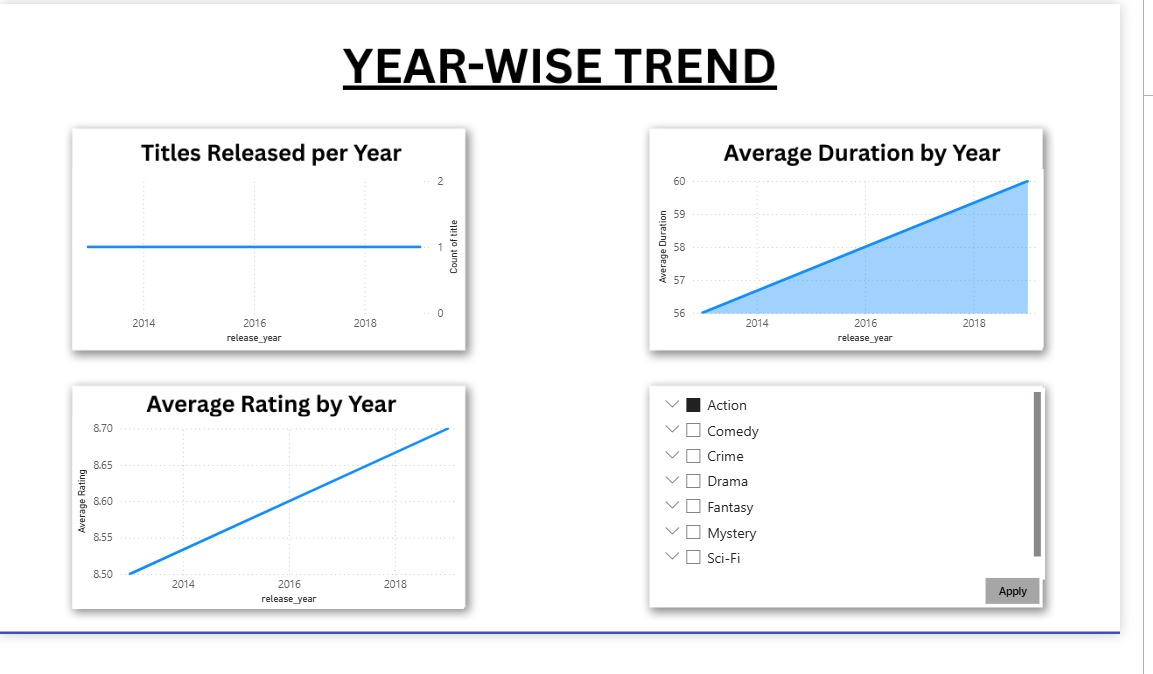

This screenshot's page, from the dashboard's own definition file:
{"tool":"powerbi","page":{"name":"Page 4","canvas":[1280,720],"ordinal":3},"visuals":[{"type":"lineChart","fields":{"Category":["ott_content_dataset.release_year"],"Y2":["CountNonNull(ott_content_dataset.title)"]},"box":[82.9,188.6,447.1,204.3],"z":0},{"type":"areaChart","fields":{"Y":["ott_content_dataset.Average Duration"],"Category":["ott_content_dataset.release_year"]},"box":[747.1,188.6,445.7,204.3],"z":1},{"type":"lineChart","fields":{"Category":["ott_content_dataset.release_year"],"Y":["ott_content_dataset.Average Rating"]},"box":[82.9,471.4,447.1,220],"z":2},{"type":"slicer","fields":{"Values":["ott_content_dataset.genre","ott_content_dataset.country","ott_content_dataset.type"]},"box":[747.1,438.6,447.1,252.9],"z":3}]}

Visuals, with their boxes on the page's 1280x720 design canvas (x1, y1, x2, y2). These are canvas units, not pixel positions in the 1153x674 screenshot, which may show the page scaled, cropped or inside an application window:
lineChart - ott_content_dataset.release_year x CountNonNull(ott_content_dataset.title): detection(83, 189, 530, 393)
areaChart - ott_content_dataset.Average Duration x ott_content_dataset.release_year: detection(747, 189, 1193, 393)
lineChart - ott_content_dataset.release_year x ott_content_dataset.Average Rating: detection(83, 471, 530, 691)
slicer - ott_content_dataset.genre x ott_content_dataset.country: detection(747, 439, 1194, 692)
